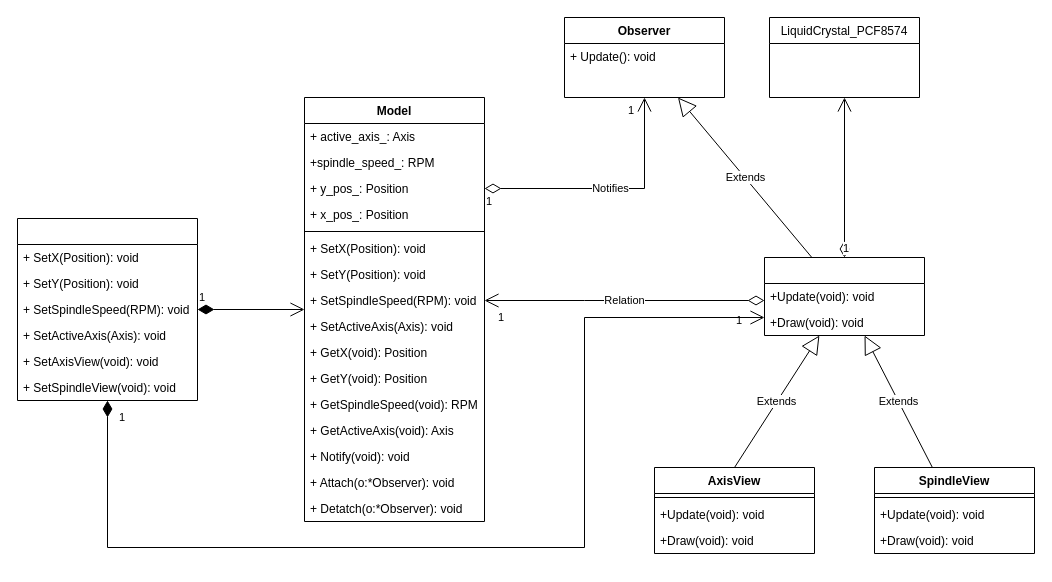
Some shapes in this 1052 by 582 pixel diagram are drawn without their labels. Each missing label, with the box of its shape:
LcdView: (764, 256, 924, 336)
LcdWriter: (16, 218, 198, 400)
